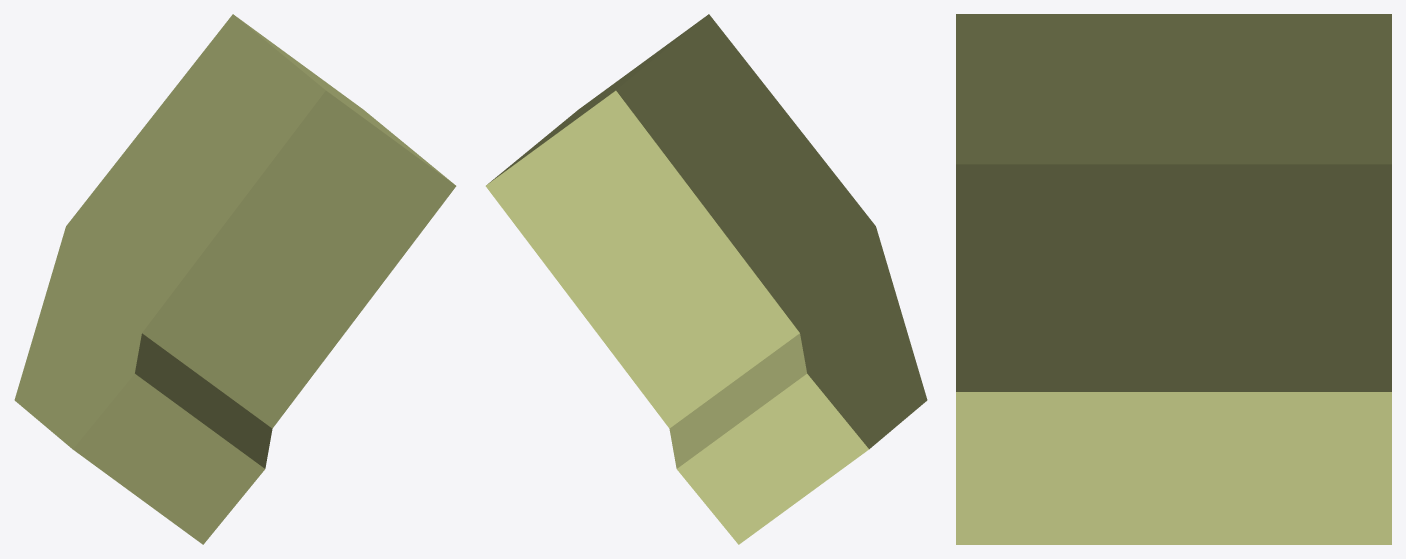
3 renders of one model, left to right at view 1: azimuth 30°, elevation 25°; view 2: azimuth 150°, elevation 25°; view 3: azimuth 270°, elevation 25°, orthographic. The views are drawn at different scales.
Parts seen in each view (by area): view 1: 0_0_1_1_3_3_3_2_0_2; view 2: 0_0_1_1_3_3_3_2_0_2; view 3: 0_0_1_1_3_3_3_2_0_2.
Part boxes in pixels (left/top/right/bottom): 0_0_1_1_3_3_3_2_0_2: left=14, top=14, right=456, bottom=544; 0_0_1_1_3_3_3_2_0_2: left=485, top=14, right=927, bottom=544; 0_0_1_1_3_3_3_2_0_2: left=956, top=14, right=1391, bottom=544.
Bounding box in the file's own units: 12.4 × 15.07 × 9.
